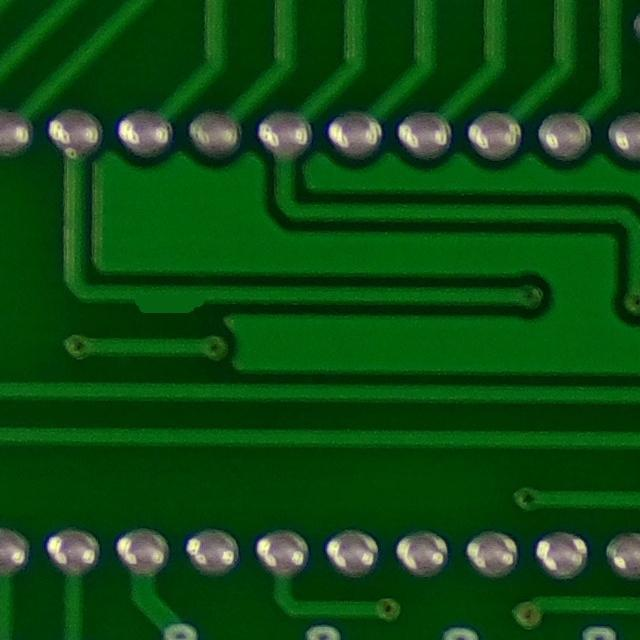spur: (122, 272, 214, 328)
